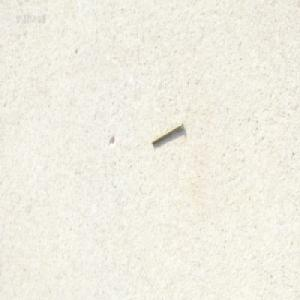Bolt: (150, 119, 183, 146)
